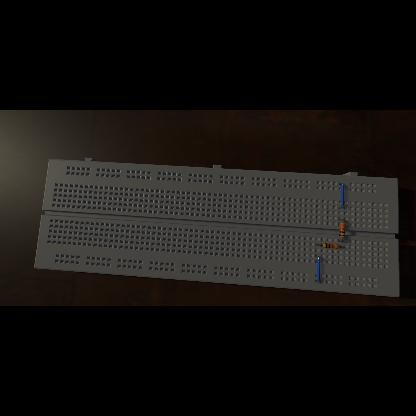breadboard: (35, 158, 400, 298)
resistor: (339, 223, 345, 238), (322, 244, 340, 249)
wire: (316, 256, 320, 283), (339, 184, 343, 208), (316, 244, 322, 246), (340, 219, 342, 223), (340, 238, 342, 242), (339, 246, 341, 248)
